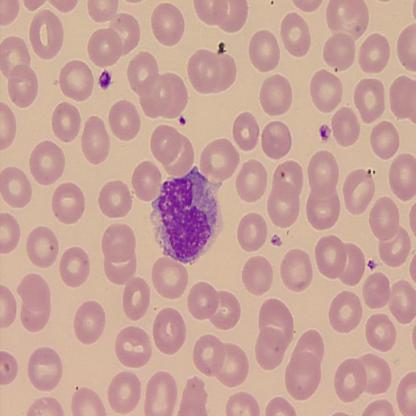Monocyte: (147, 164, 224, 265)
